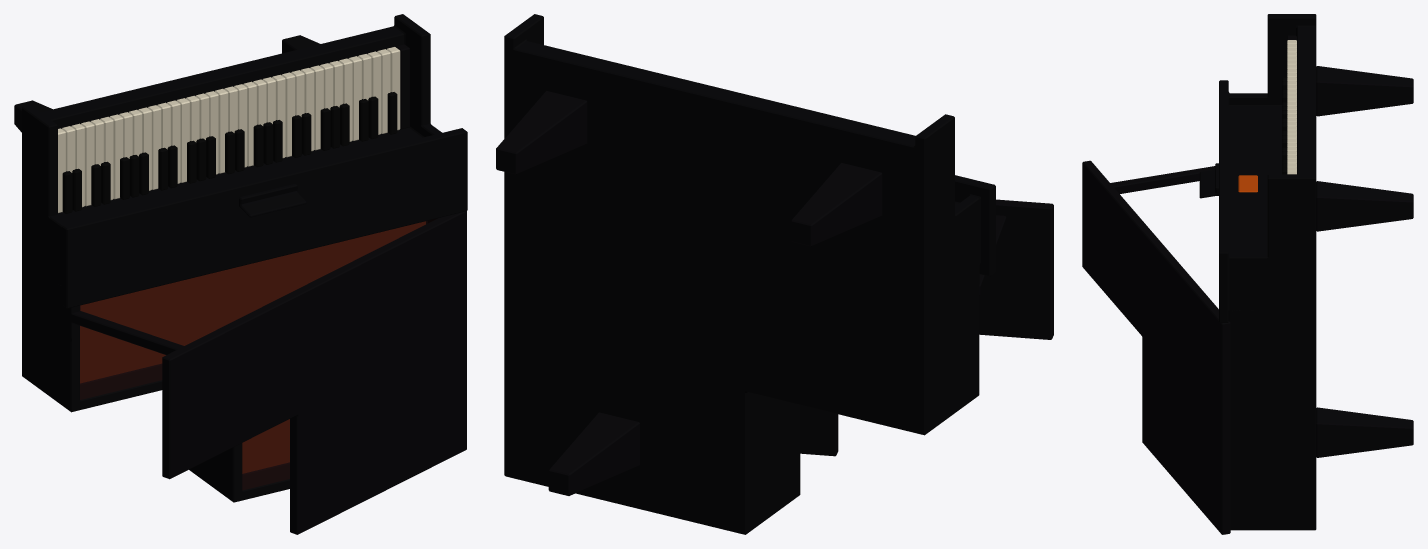
File: 2_Pianoexport.obj
3 renders of one model, left to right at view 1: azimuth 30°, elevation 25°; view 2: azimuth 150°, elevation 25°; view 3: azimuth 270°, elevation 25°, orthographic. The views are drawn at different scales.
Parts seen in each view (by area): view 1: Piano_Cube.013; view 2: Piano_Cube.013; view 3: Piano_Cube.013.
Boxes of the visible parts, <box> form: Piano_Cube.013: <box>14,14,467,534</box>; Piano_Cube.013: <box>496,14,1053,534</box>; Piano_Cube.013: <box>1082,14,1413,534</box>.
Size of the model in its own units: 4.21 by 4 by 3.4.
